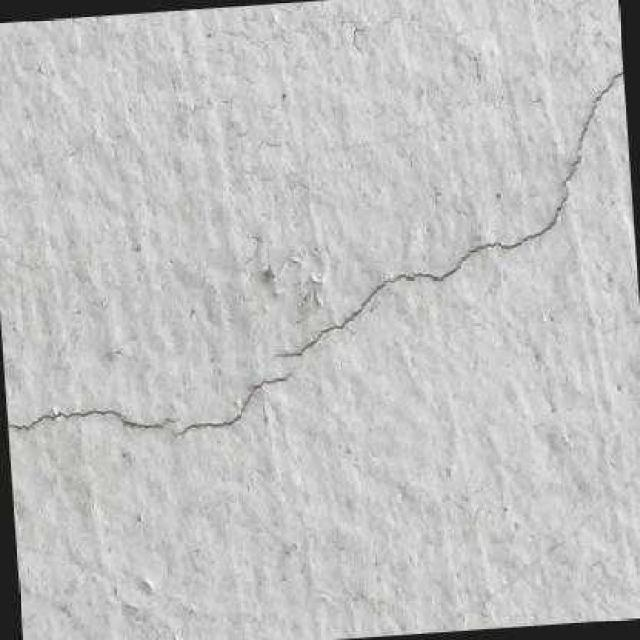D00: (274, 67, 623, 356), (169, 374, 288, 434), (6, 409, 177, 430)
